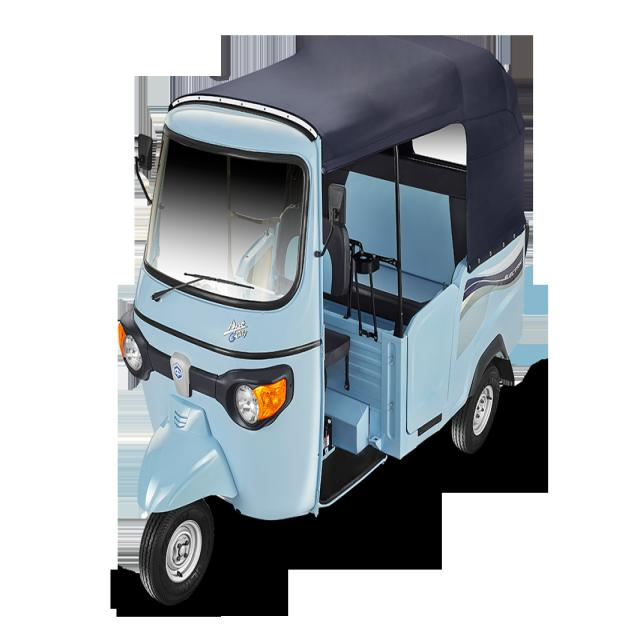autorickshaw: (118, 37, 526, 603)
